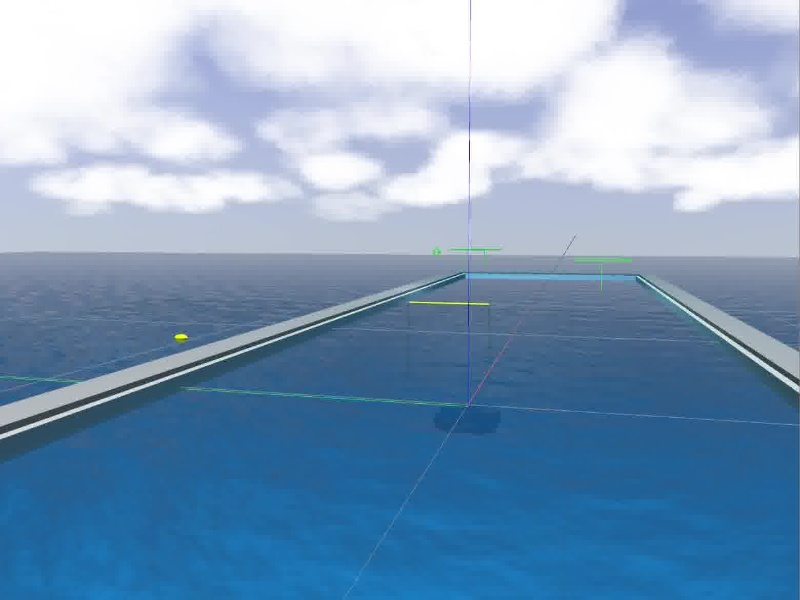gate: (404, 300, 493, 362)
